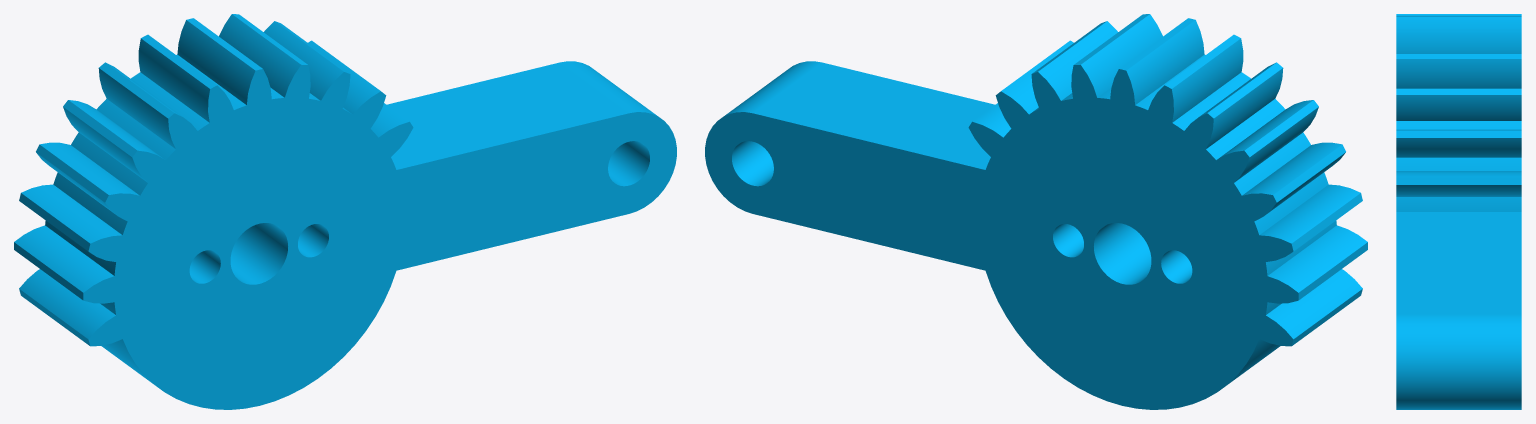
The picture shows the model from 3 angles, left to right: view 1: azimuth 30°, elevation 25°; view 2: azimuth 150°, elevation 25°; view 3: azimuth 270°, elevation 25°; orthographic projection. The views are drawn at different scales.
Parts seen in each view (by area): view 1: Part7; view 2: Part7; view 3: Part7.
Part boxes in pixels (<box>): Part7: <box>14,14,676,409</box>; Part7: <box>705,14,1367,409</box>; Part7: <box>1396,14,1521,409</box>.
Bounding box in the file's own units: 0.0494 × 0.0267 × 0.01.
